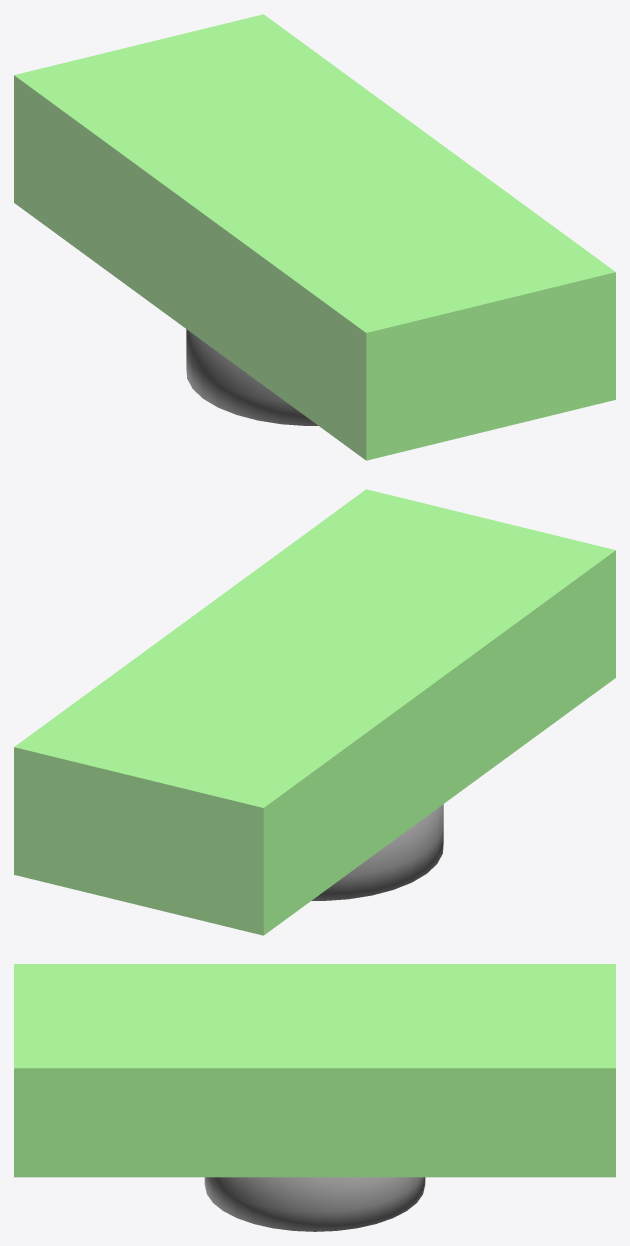
The model's file is compresion-carga1.gltf.
3 views of the same model, one above another, from view 1: azimuth 30°, elevation 25°; view 2: azimuth 150°, elevation 25°; view 3: azimuth 270°, elevation 25° (orthographic). The views are drawn at different scales.
Parts seen in each view (by area): view 1: brazo-carga; view 2: brazo-carga; view 3: brazo-carga.
Part boxes in pixels (bbox=[...]): brazo-carga: bbox=[14, 14, 615, 460]; brazo-carga: bbox=[14, 489, 615, 935]; brazo-carga: bbox=[14, 964, 615, 1231].
Size of the model in its own units: 0.2699 by 0.2045 by 0.6596.
